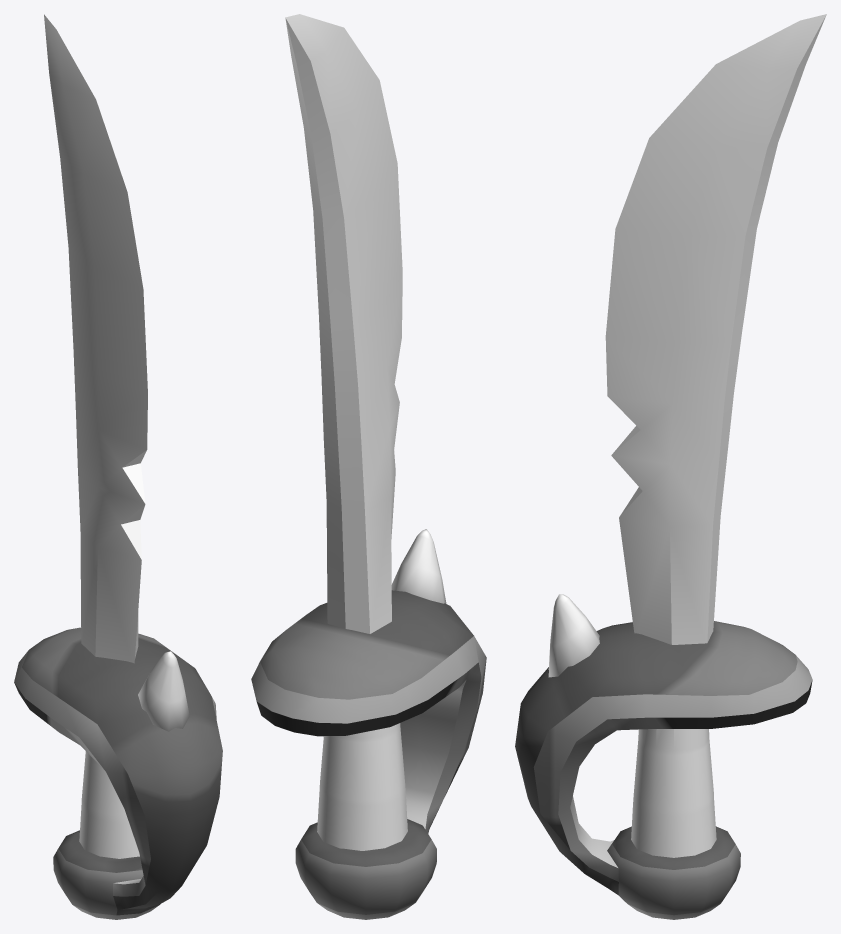
3 renders of one model, left to right at view 1: azimuth 30°, elevation 25°; view 2: azimuth 150°, elevation 25°; view 3: azimuth 270°, elevation 25°, orthographic. The views are drawn at different scales.
Visible parts, largest first — view 1: Weap_group1Weap3; view 2: Weap_group1Weap3; view 3: Weap_group1Weap3.
Boxes of the visible parts, x1,y1,x2,y2 form: Weap_group1Weap3: (14,14,222,919); Weap_group1Weap3: (251,14,486,919); Weap_group1Weap3: (515,14,826,919).
Bounding box in the file's own units: 2.1 × 11.35 × 3.58.
